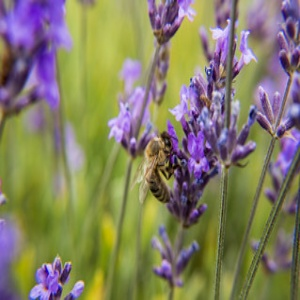bee: (133, 130, 176, 215)
